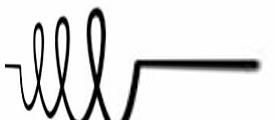inductor: (16, 6, 154, 117)
